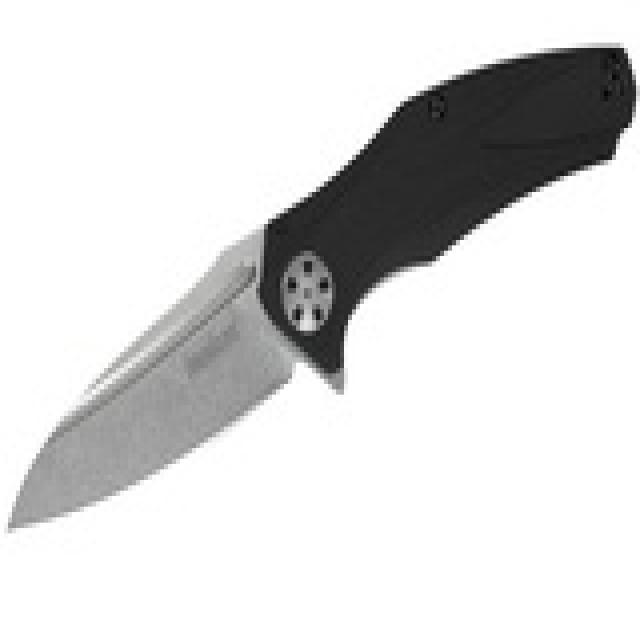Knife: (4, 42, 635, 554)
